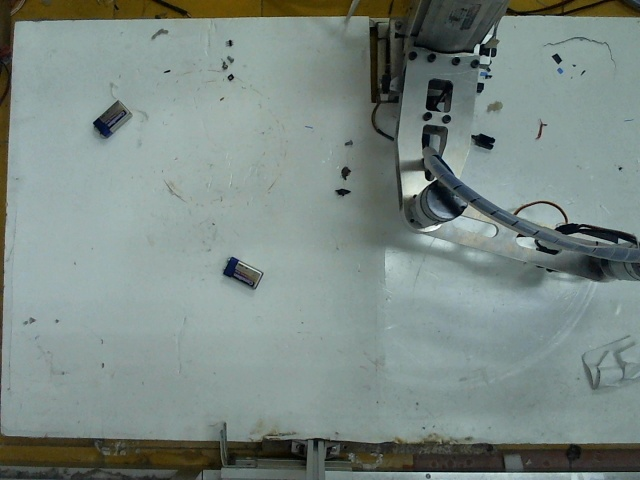battery: (219, 253, 263, 292), (89, 96, 128, 135)
